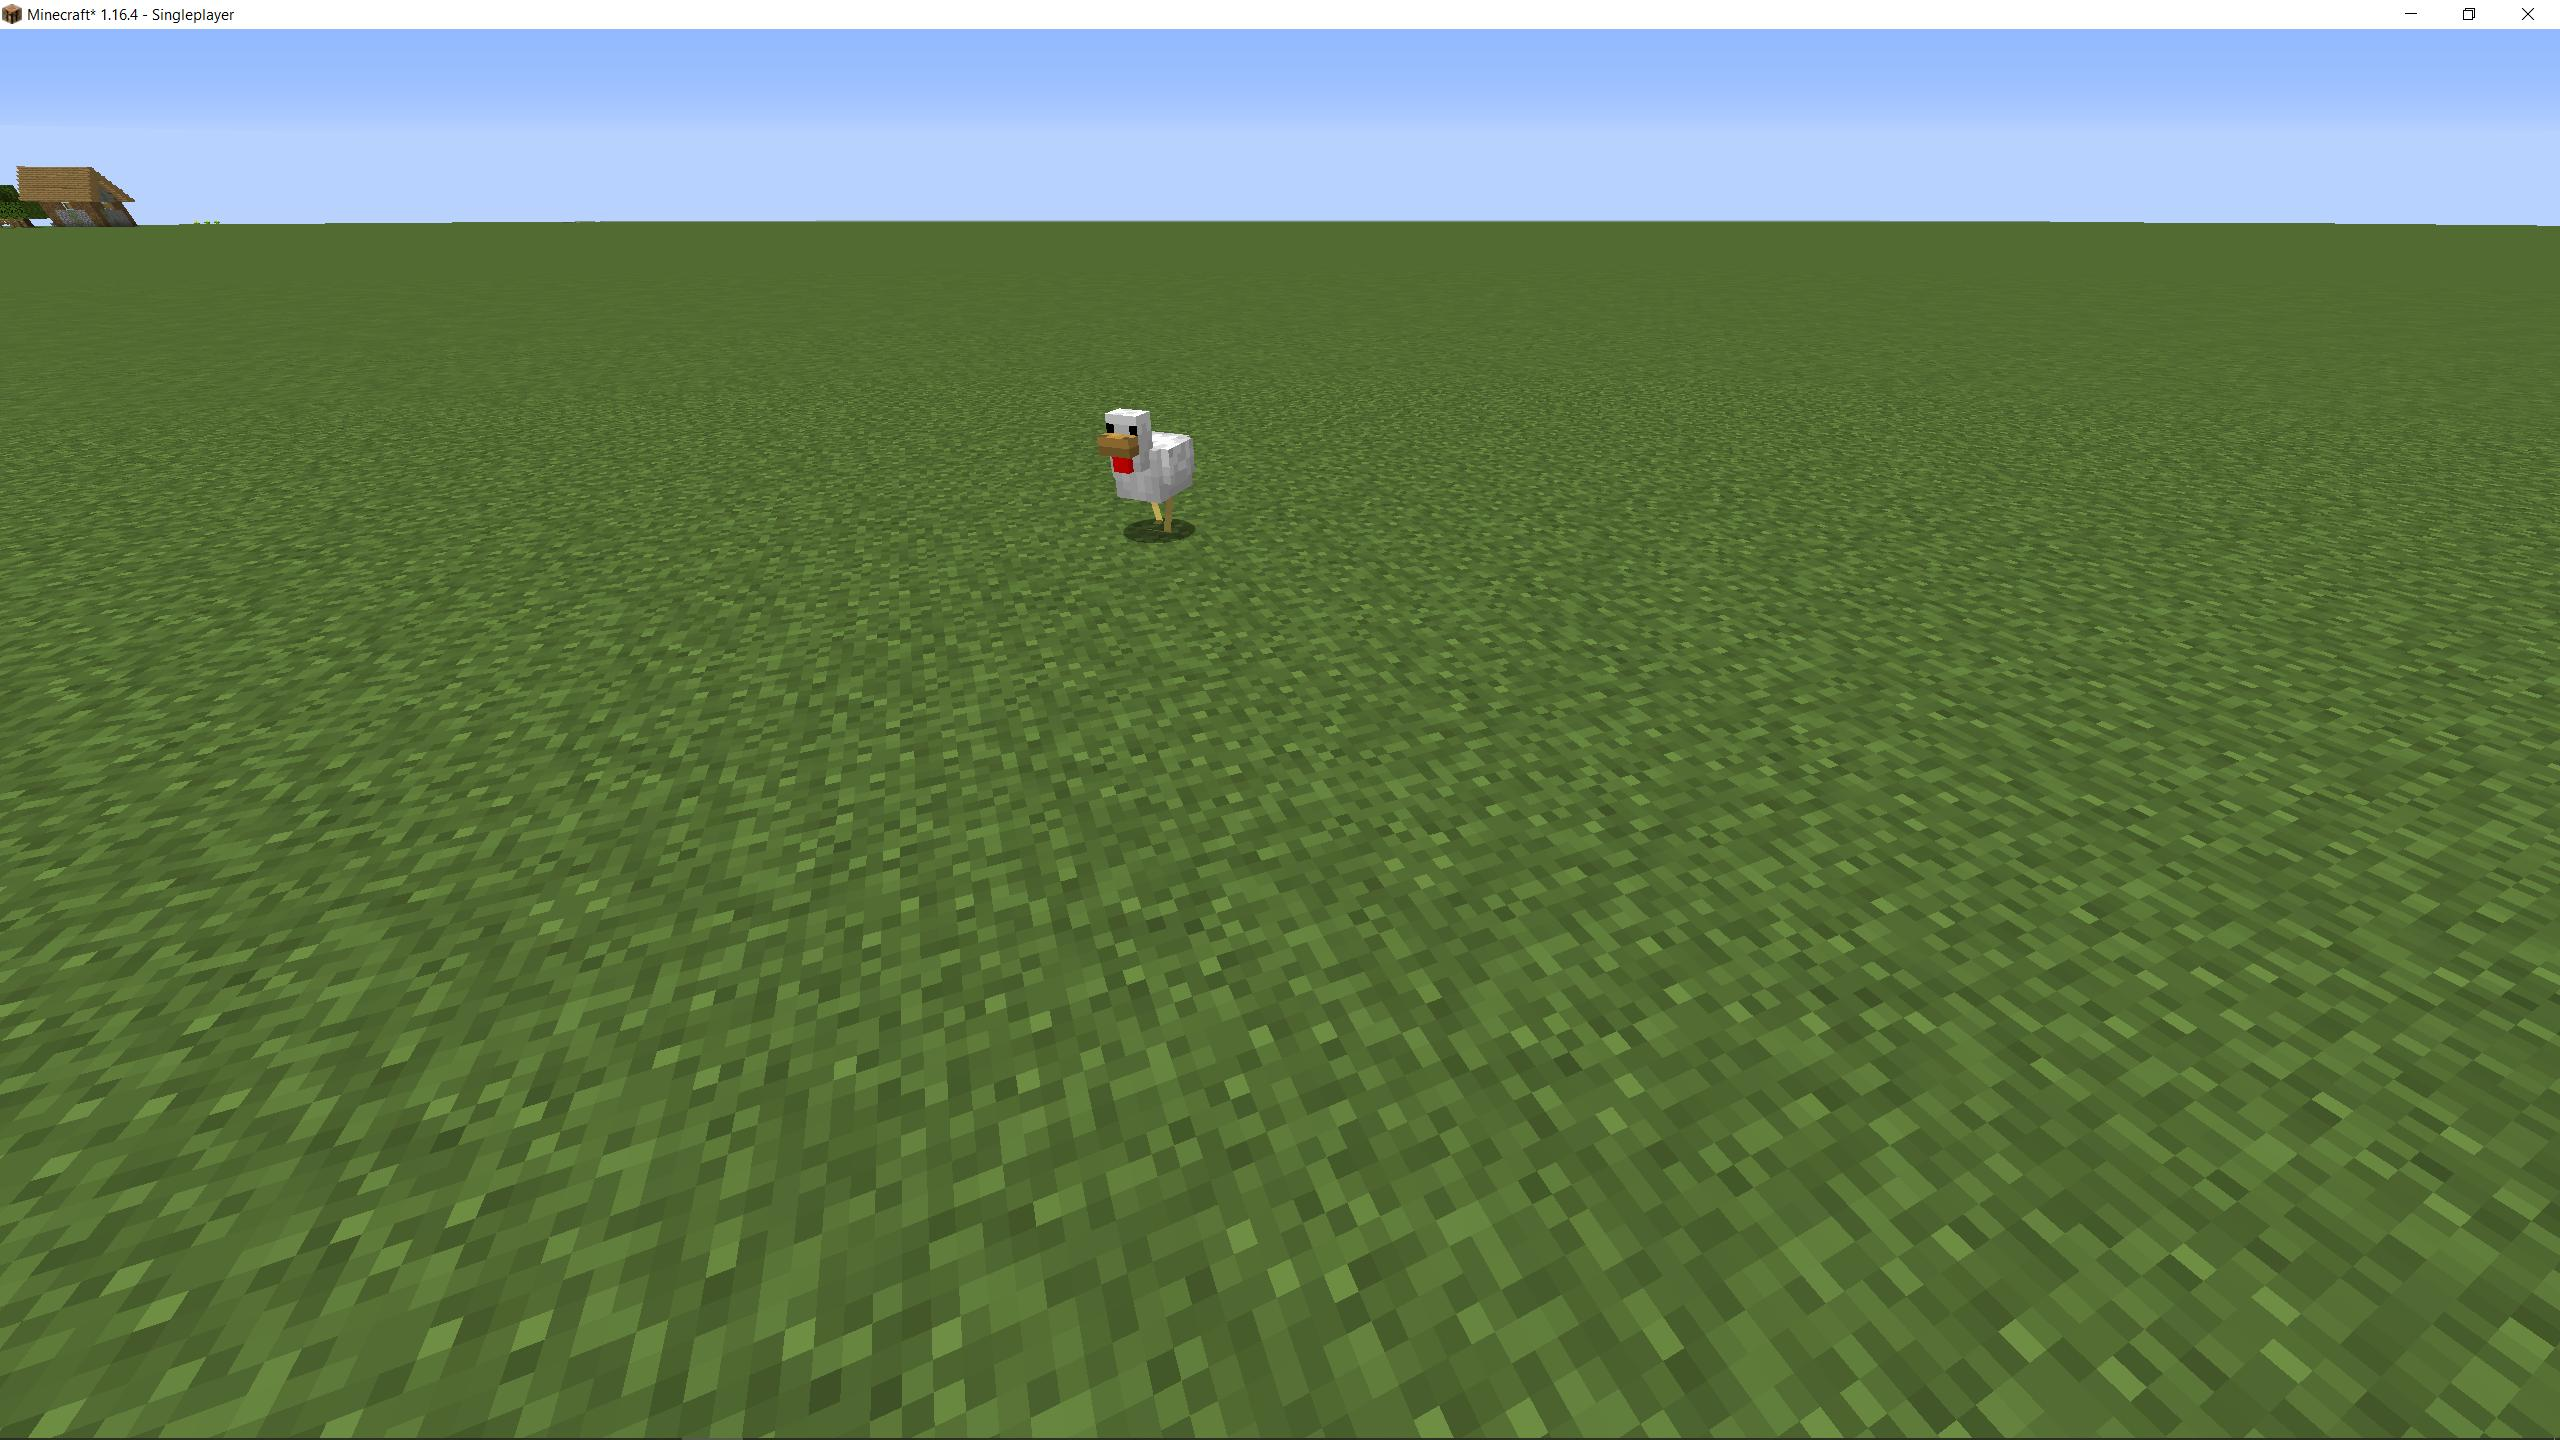chicken: (1095, 403, 1196, 542)
